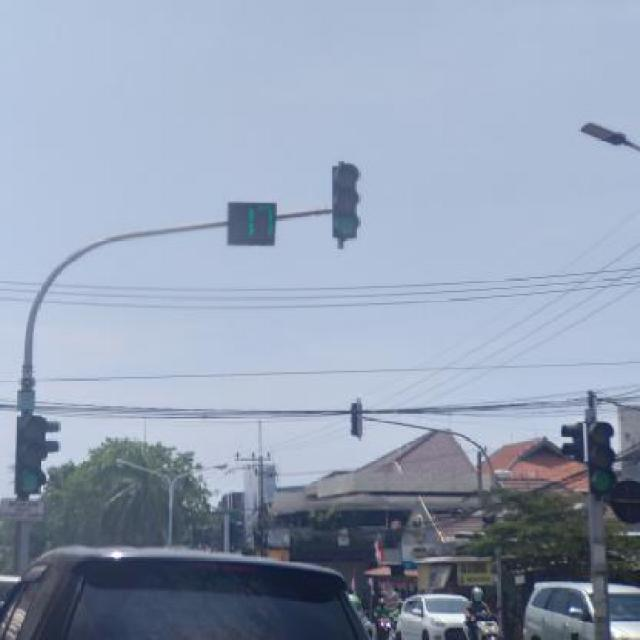traffic light: (14, 418, 48, 502), (330, 160, 360, 243)
